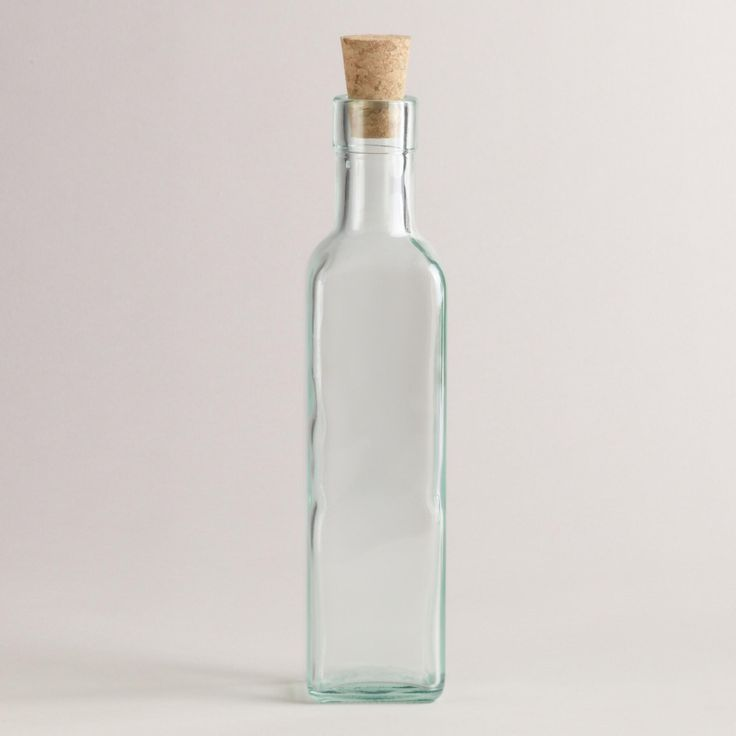emptybottle: (303, 34, 446, 704)
